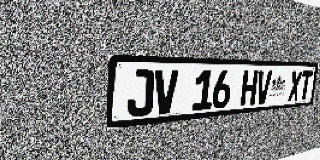1: (192, 70, 215, 111)
6: (212, 70, 232, 109)
H: (240, 70, 259, 106)
J: (127, 69, 154, 118)
T: (299, 71, 313, 100)
V: (153, 70, 179, 115), (255, 70, 272, 105)
X: (288, 71, 303, 101)
